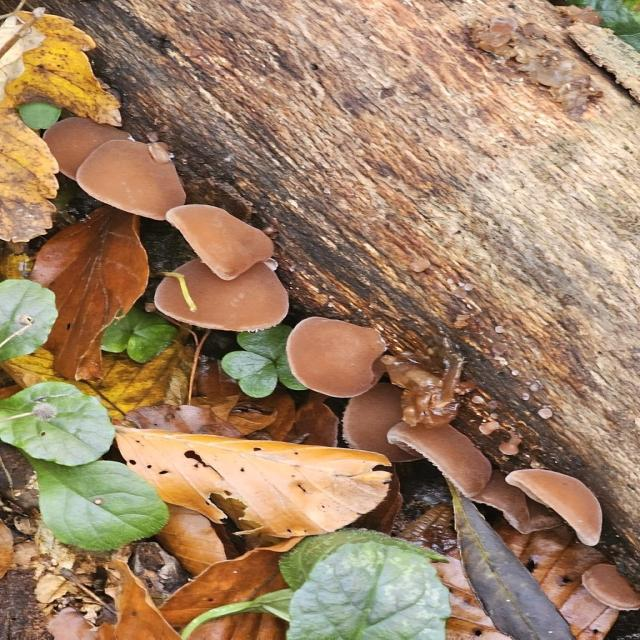Fase Muda: (376, 411, 494, 501), (76, 136, 194, 225), (152, 256, 293, 330), (504, 461, 610, 551), (163, 203, 280, 276), (373, 352, 476, 427), (43, 112, 145, 185), (287, 315, 382, 393), (349, 380, 432, 466), (572, 558, 640, 612)
